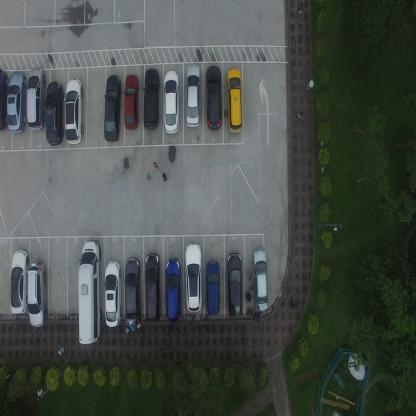car: (78, 239, 102, 345), (64, 77, 84, 145), (27, 261, 47, 328), (10, 249, 30, 316), (44, 80, 64, 146), (6, 68, 26, 134), (184, 242, 202, 314), (26, 67, 46, 131), (103, 73, 121, 142), (226, 251, 243, 321), (124, 257, 141, 327), (104, 258, 121, 328), (226, 66, 243, 134), (250, 248, 268, 312), (142, 67, 160, 131), (205, 64, 222, 130), (145, 252, 160, 322), (163, 69, 179, 134), (165, 258, 181, 323), (185, 62, 200, 129), (124, 72, 139, 131), (205, 259, 219, 316), (0, 69, 8, 132)
